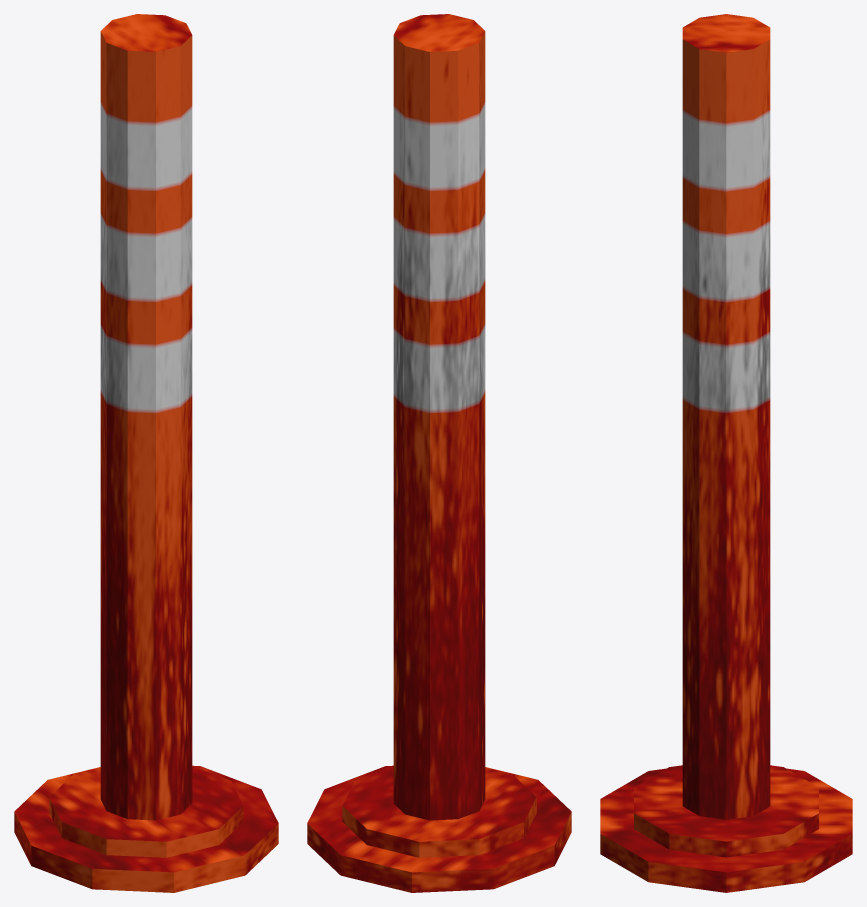
Rendered from SafetyPole.fbx.
3 renders of one model, left to right at view 1: azimuth 30°, elevation 25°; view 2: azimuth 150°, elevation 25°; view 3: azimuth 270°, elevation 25°, orthographic.
Parts seen in each view (by area): view 1: Empty_Mesh; view 2: Empty_Mesh; view 3: Empty_Mesh.
Boxes of the visible parts, left/top/right/bottom form: Empty_Mesh: left=14, top=14, right=278, bottom=892; Empty_Mesh: left=307, top=14, right=571, bottom=892; Empty_Mesh: left=600, top=14, right=852, bottom=892.
Size of the model in its own units: 0.2299 by 0.7677 by 0.2187.
